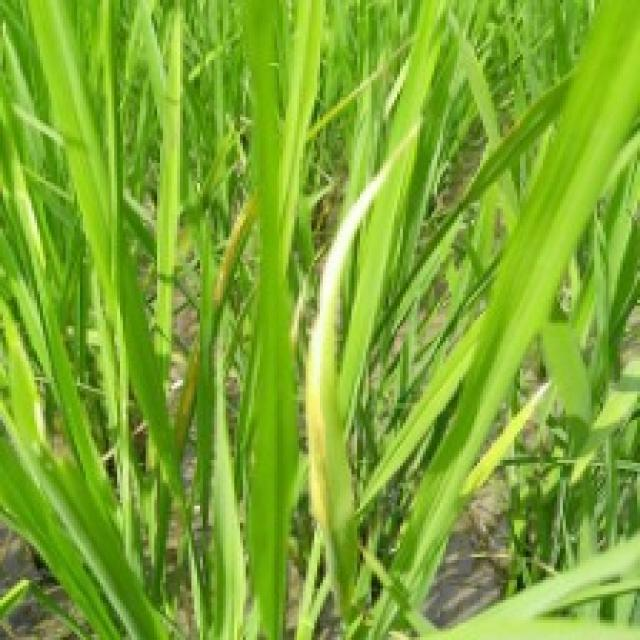Unhealthy: (307, 124, 419, 538), (215, 189, 258, 309), (290, 251, 321, 357), (175, 341, 197, 452)
